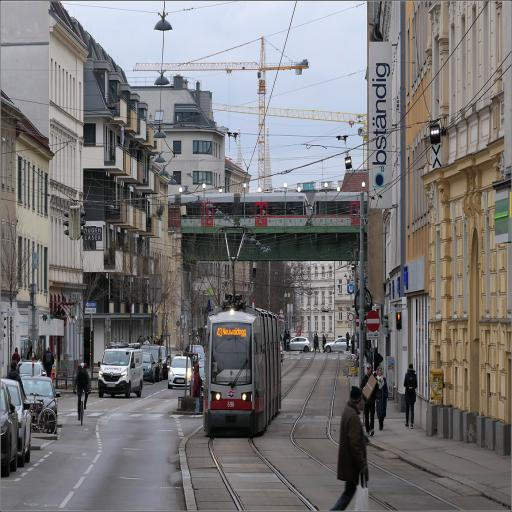ULF: (201, 305, 283, 436)
